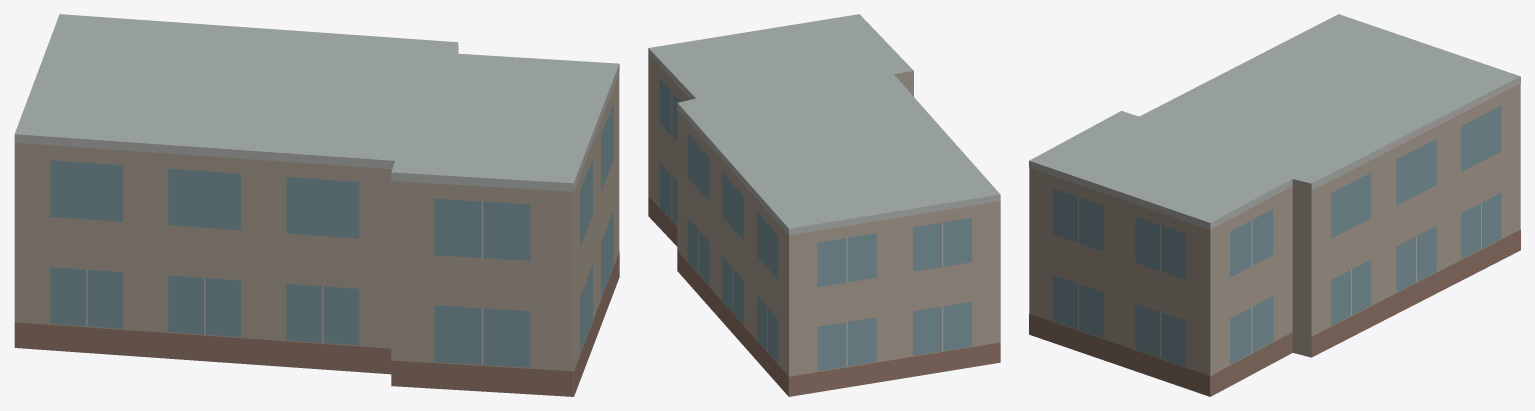
The model's file is survey-upis-32657816.glb.
The picture shows the model from 3 angles, left to right: view 1: azimuth 30°, elevation 25°; view 2: azimuth 150°, elevation 25°; view 3: azimuth 270°, elevation 25°; orthographic projection. The views are drawn at different scales.
Parts seen in each view (by area): view 1: survey-upis-32657816.tmp; view 2: survey-upis-32657816.tmp; view 3: survey-upis-32657816.tmp.
Part boxes in pixels (box(x1,y1,x2,y2)): survey-upis-32657816.tmp: box(14, 14, 619, 396); survey-upis-32657816.tmp: box(648, 14, 1000, 396); survey-upis-32657816.tmp: box(1029, 14, 1520, 396).
Bounding box in the file's own units: 15.73 × 6.1 × 15.64.
